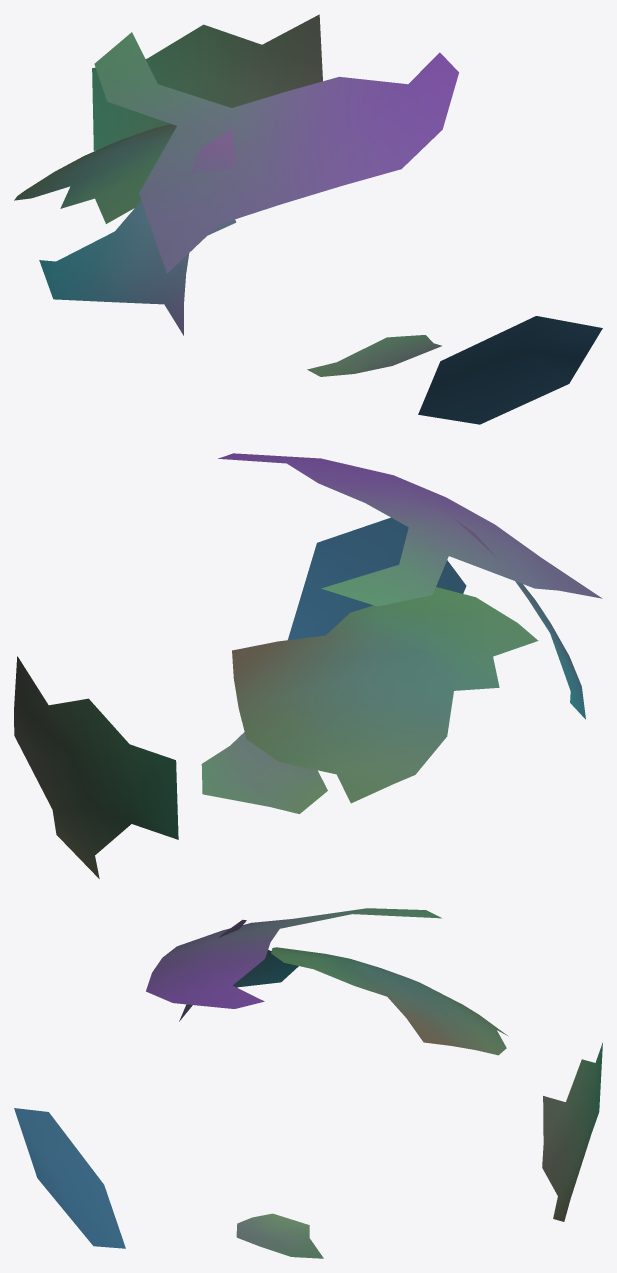
The model's file is space-nebulae-nebula_v6.fbx.
The picture shows the model from 3 angles, top to bottom: view 1: azimuth 30°, elevation 25°; view 2: azimuth 150°, elevation 25°; view 3: azimuth 270°, elevation 25°; orthographic projection. The views are drawn at different scales.
Parts seen in each view (by area): view 1: Nebula_v6; view 2: Nebula_v6; view 3: Nebula_v6.
Part boxes in pixels (bbox=[...]): Nebula_v6: bbox=[14, 14, 602, 424]; Nebula_v6: bbox=[14, 453, 602, 878]; Nebula_v6: bbox=[14, 908, 602, 1258].
Size of the model in its own units: 0.3581 by 0.252 by 0.5.
